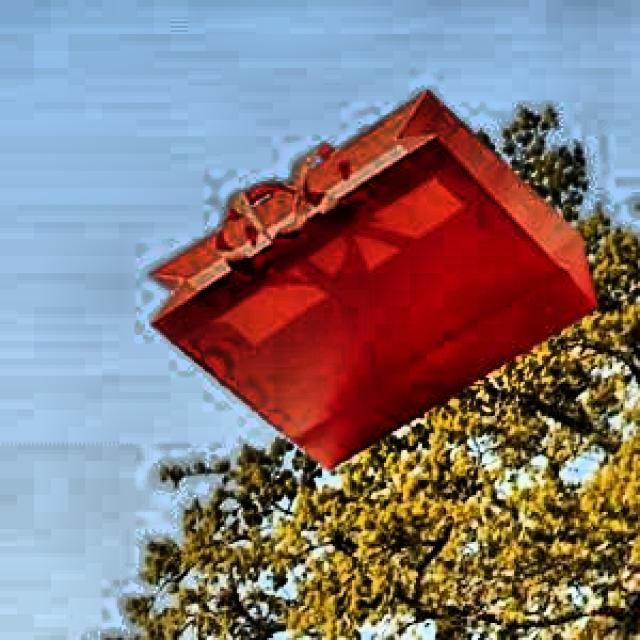Paper-bag: (140, 88, 602, 474)
